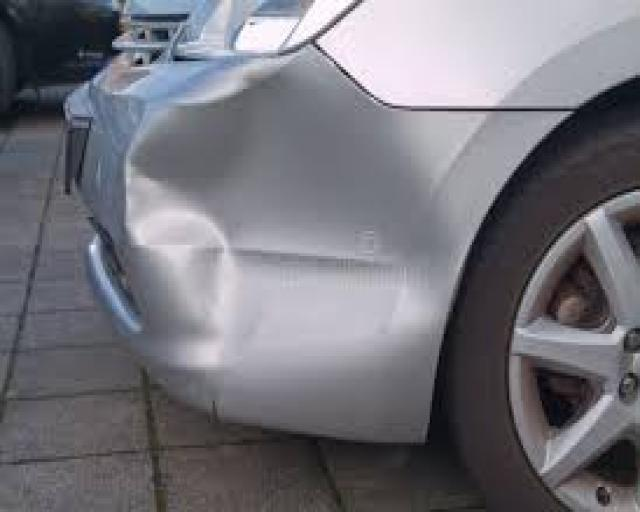dent: (120, 47, 462, 397)
